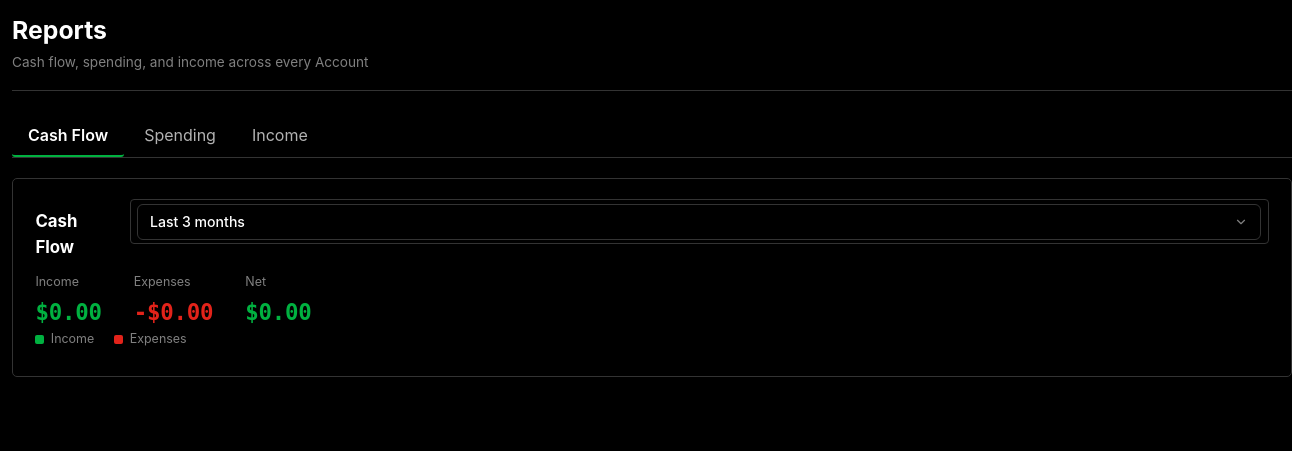
Test: ReportsScreen Income tab › renders the per-Category income breakdown from mocked data
Click the tab "Income". click: [280, 136]
box: [236,115,324,157]
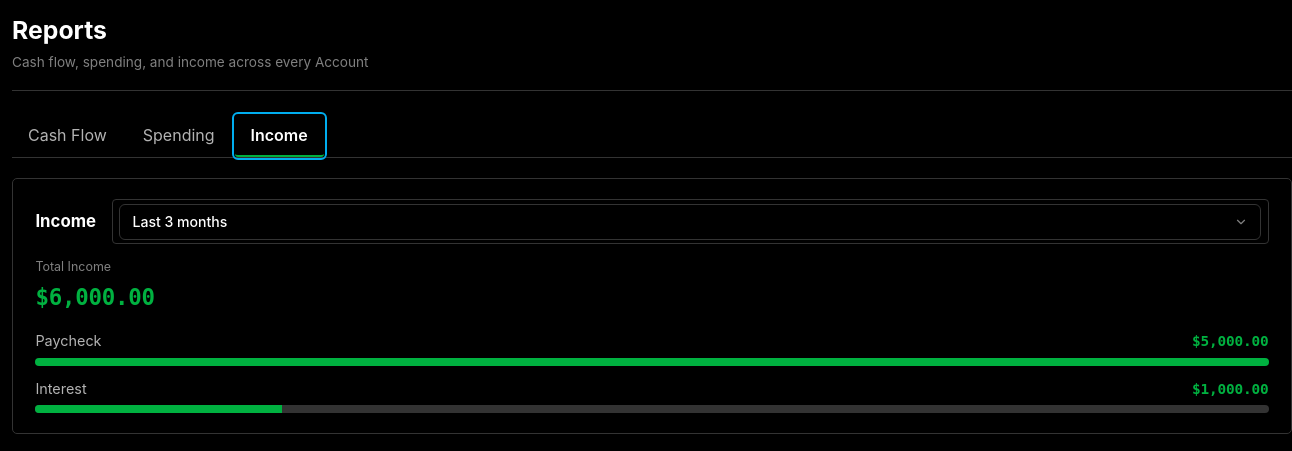
Result: the text "$6,000.00" is shown at [35,281,155,314]
Result: the text "Paycheck" is shown at [35,330,102,352]
Result: the text "$5,000.00" is shown at [1192,331,1269,353]
